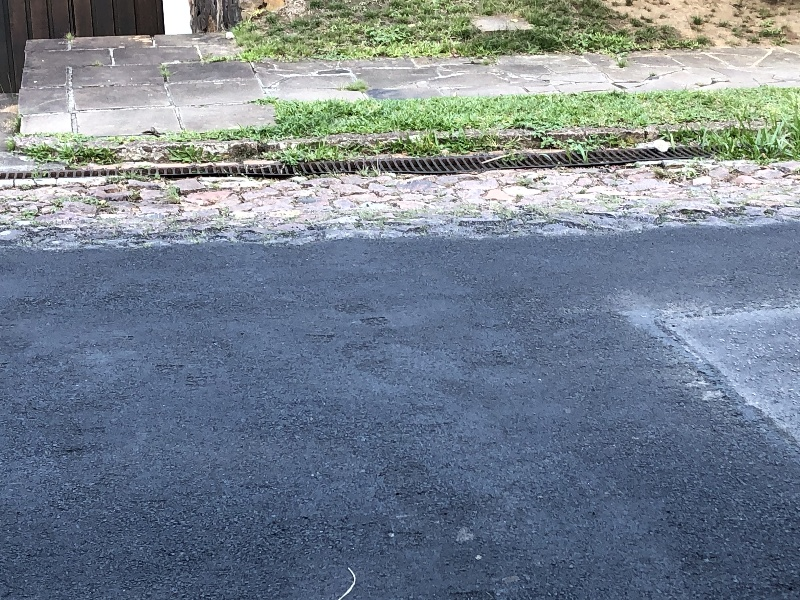v18: (12, 108, 797, 196)
